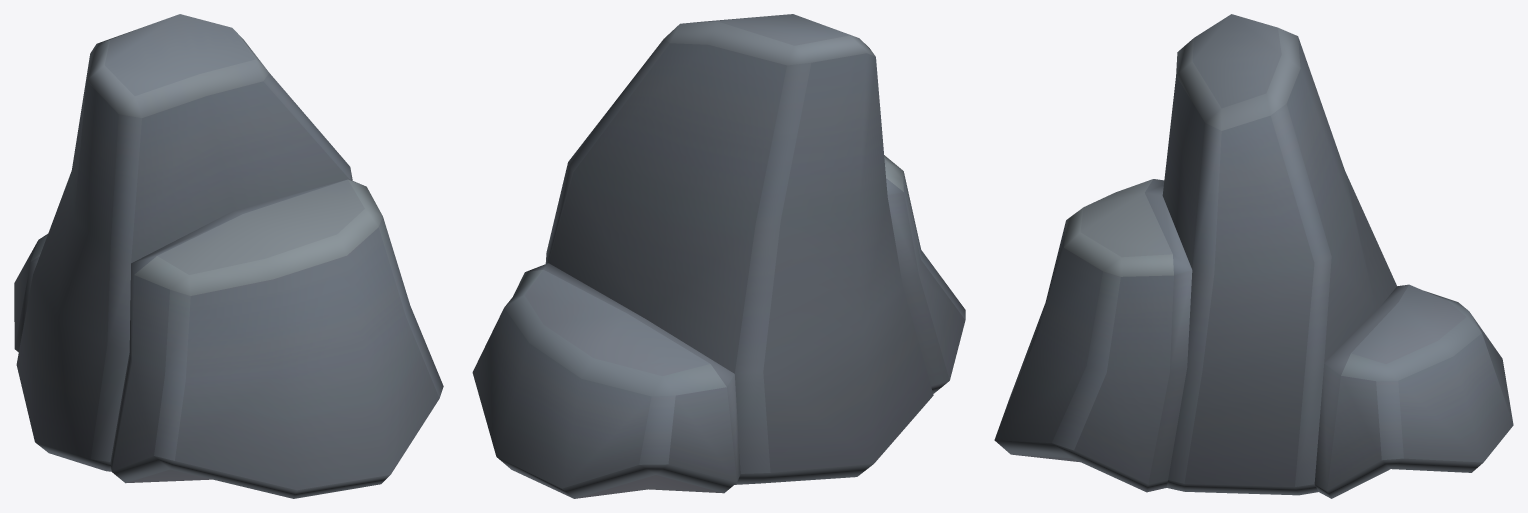
Rendered from rock_06.fbx.
3 views of the same model, side by side, from view 1: azimuth 30°, elevation 25°; view 2: azimuth 150°, elevation 25°; view 3: azimuth 270°, elevation 25° (orthographic). The views are drawn at different scales.
Parts seen in each view (by area): view 1: rock_06; view 2: rock_06; view 3: rock_06.
Part boxes in pixels (x1,y1,x2,y2): rock_06: [14, 14, 443, 498]; rock_06: [472, 14, 965, 498]; rock_06: [994, 14, 1513, 498].
Bounding box in the file's own units: 138 × 170 × 198.
